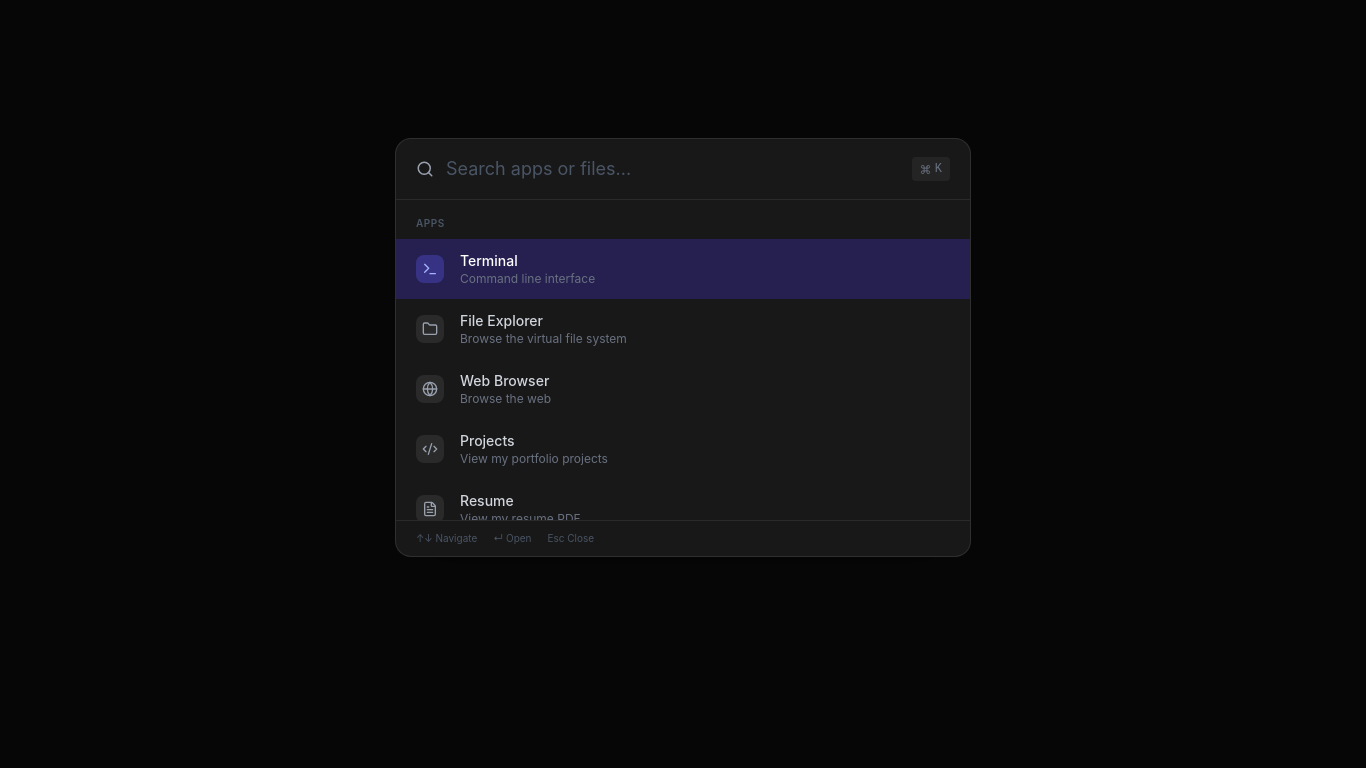
Test case: Spotlight Component — Activity Monitor Removed › searching "dsa" should show DSA Dashboard
Type "dsa" into the field with placeholder "Search apps or files..." at (679, 169), box [446,155,912,183]
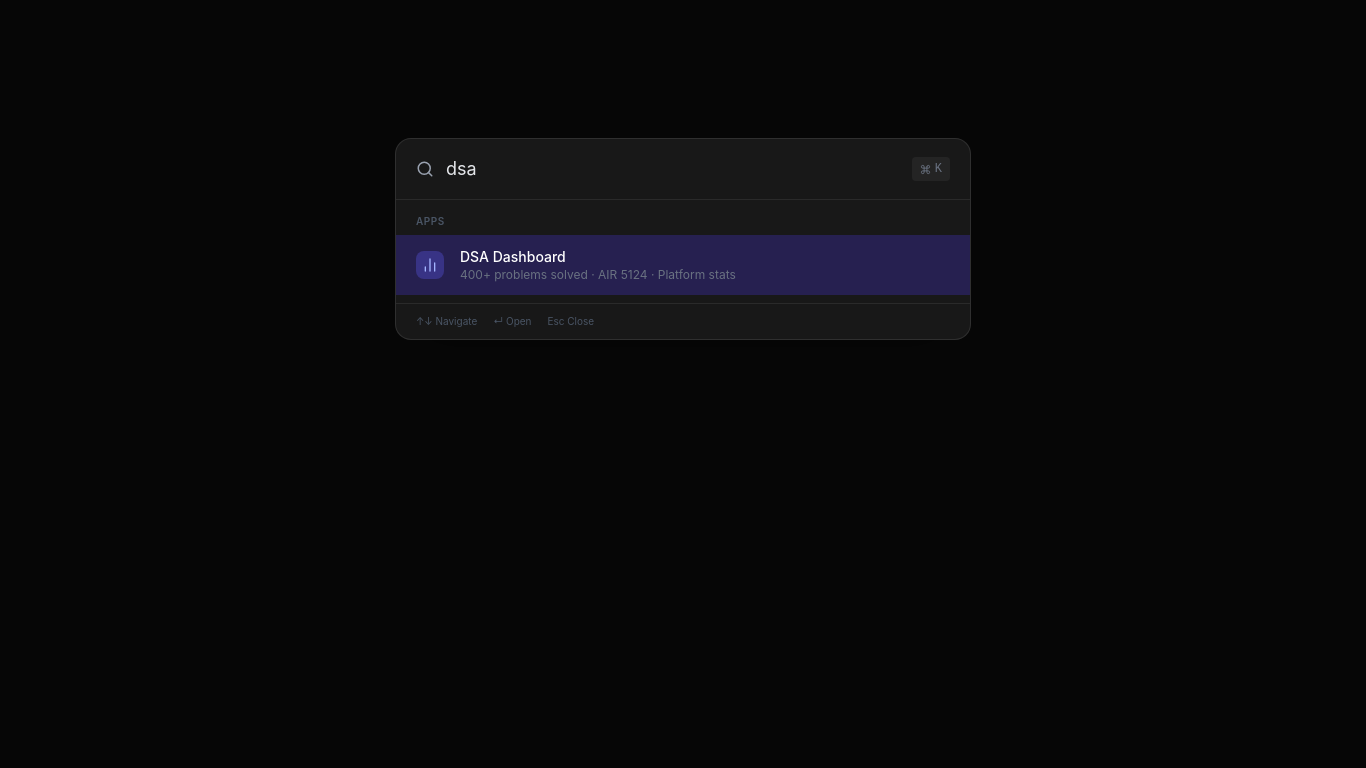
expect the text "DSA Dashboard" is shown: met, box [460,248,566,265]
